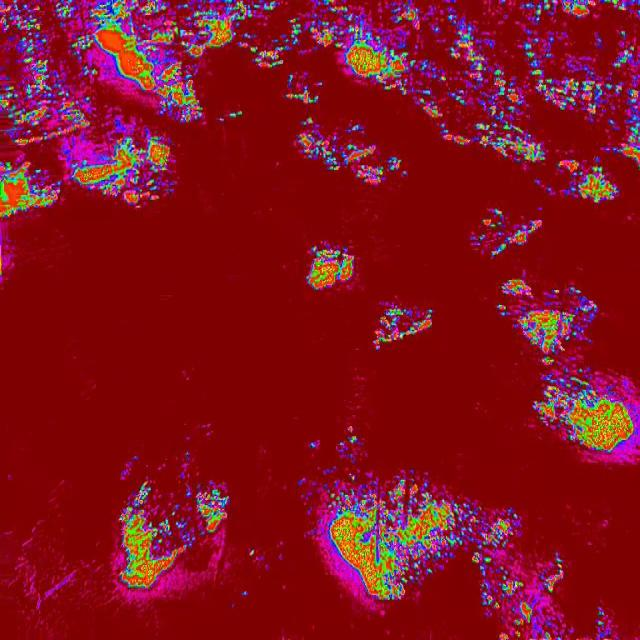fire: (0, 0, 640, 68), (318, 459, 465, 607), (110, 461, 231, 604), (0, 134, 180, 223), (0, 68, 211, 132), (473, 509, 572, 640), (492, 272, 606, 374), (344, 66, 640, 102), (538, 374, 640, 467), (286, 122, 410, 186), (440, 101, 546, 167), (469, 210, 546, 260), (370, 305, 438, 354), (302, 243, 360, 295), (547, 166, 615, 202), (609, 102, 640, 158), (280, 74, 326, 108)
